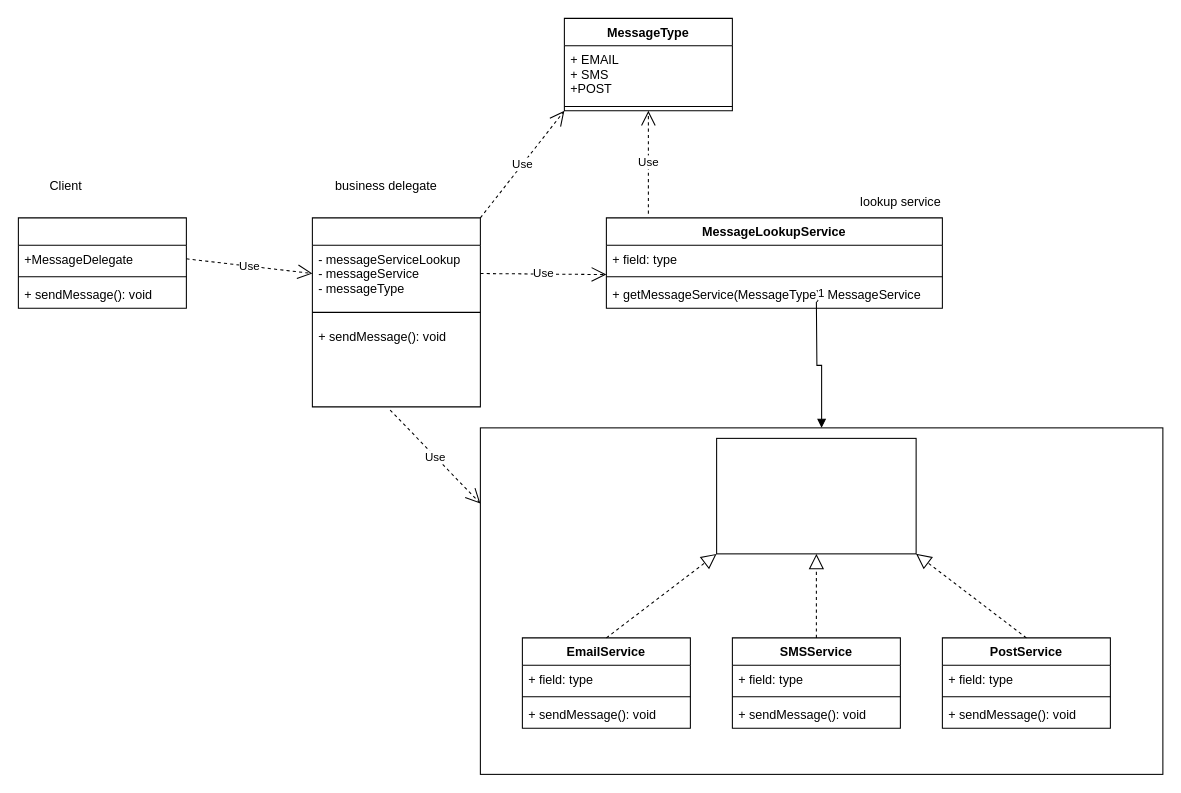
Some shapes in this 1181 by 793 pixel diagram are drawn without their labels. Here are the shapes that lost their labels. From the top down, the box of each, then its label:
(17, 217, 186, 308): MessageClient
(311, 217, 480, 407): MessageDelegate
(716, 437, 916, 554): <<Interface>> MessageService + field1: Type + field2: Type + sendMessage(): void
